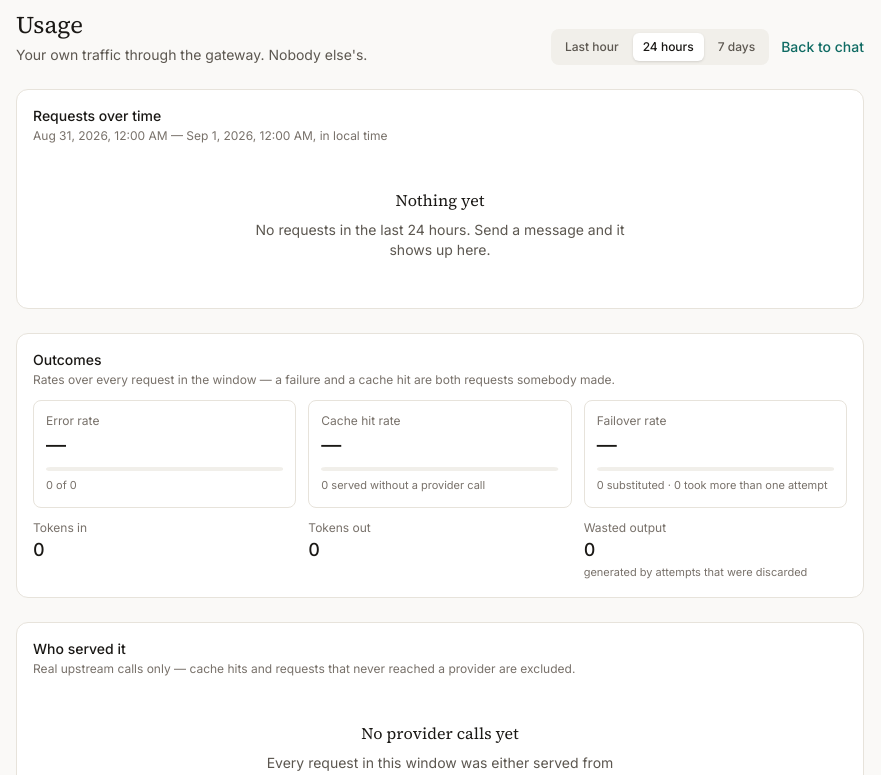
Test: the window switch › carries the window into the empty state's wording
Click the radio button labelled "Last hour" at (592, 47), box [555,33,629,61]
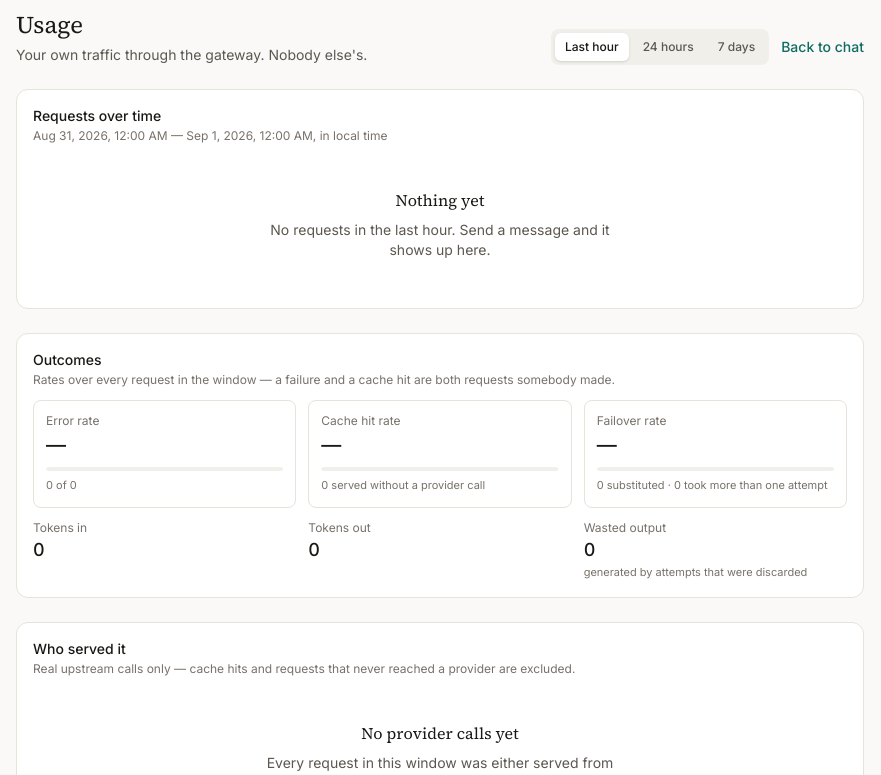
Result: the text "No requests in the last hour" is shown at [270,221,610,258]
